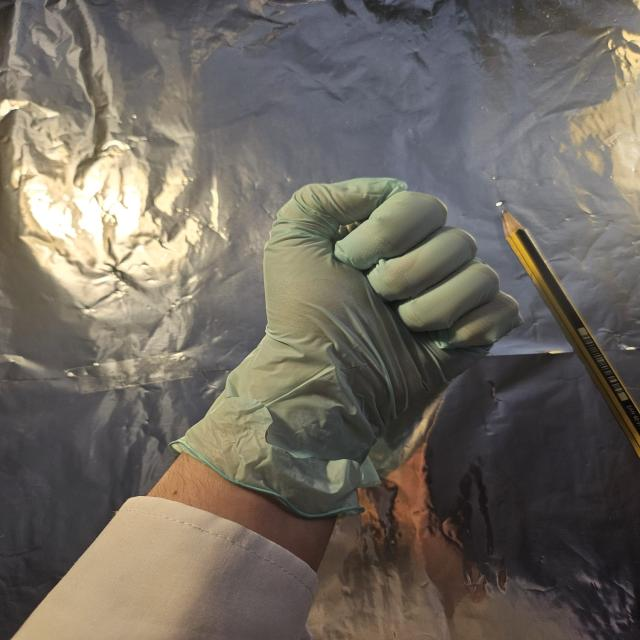gloves_damaged: (170, 178, 524, 521)
